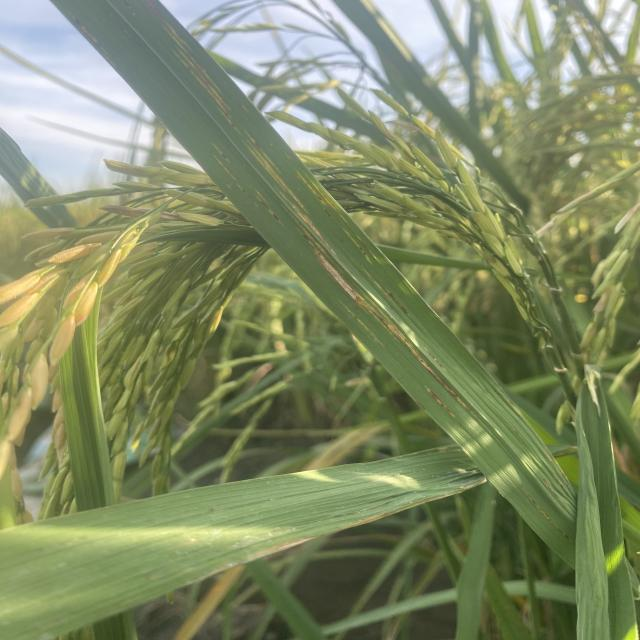Dom soc vi khuan: (368, 304, 477, 417), (274, 186, 340, 258), (313, 250, 365, 305), (424, 386, 456, 418), (385, 288, 409, 315), (425, 348, 447, 371)
